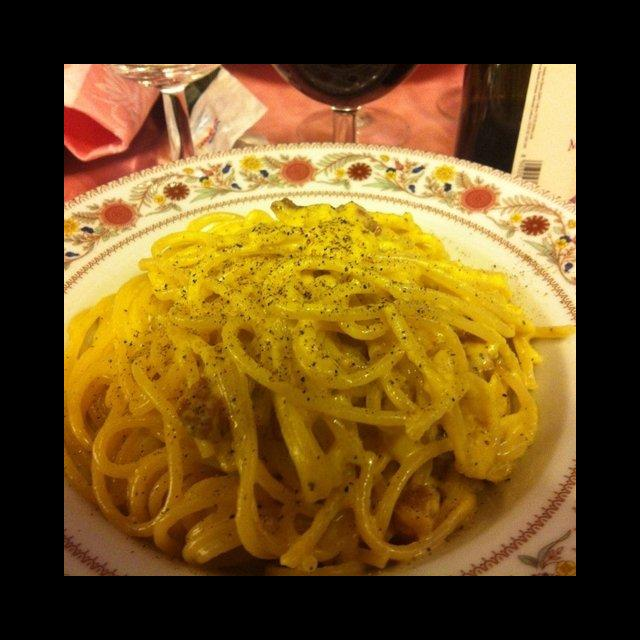noodles: (64, 196, 576, 576)
